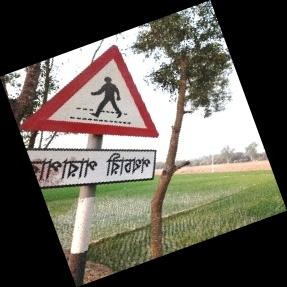Pedestrian-crossing: (19, 47, 160, 186)
